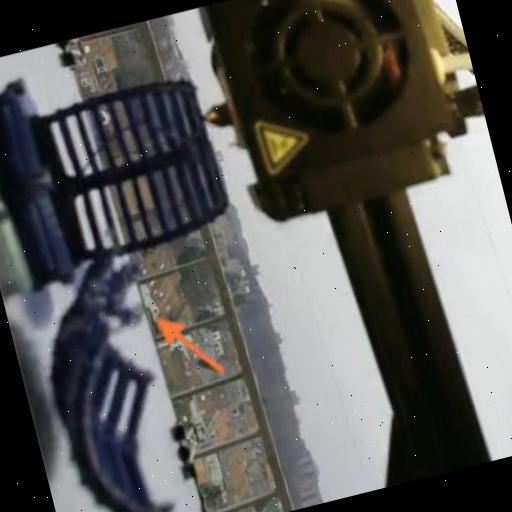spaghetti: (70, 239, 162, 338)
